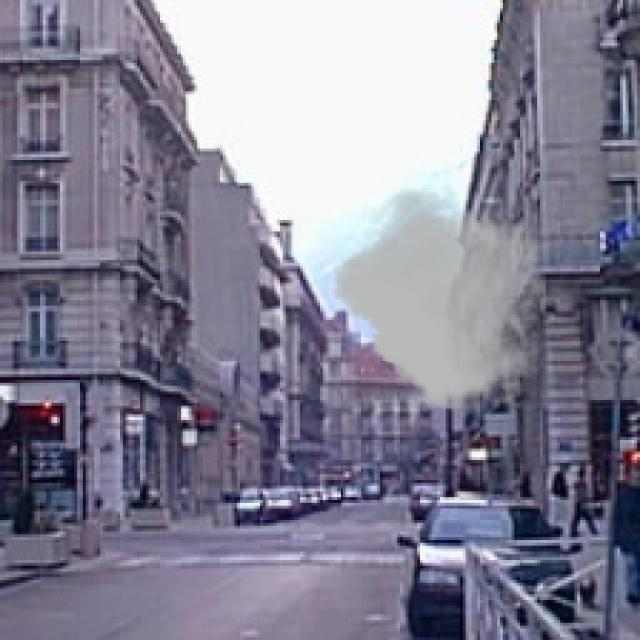Smoke: (334, 183, 546, 414)
